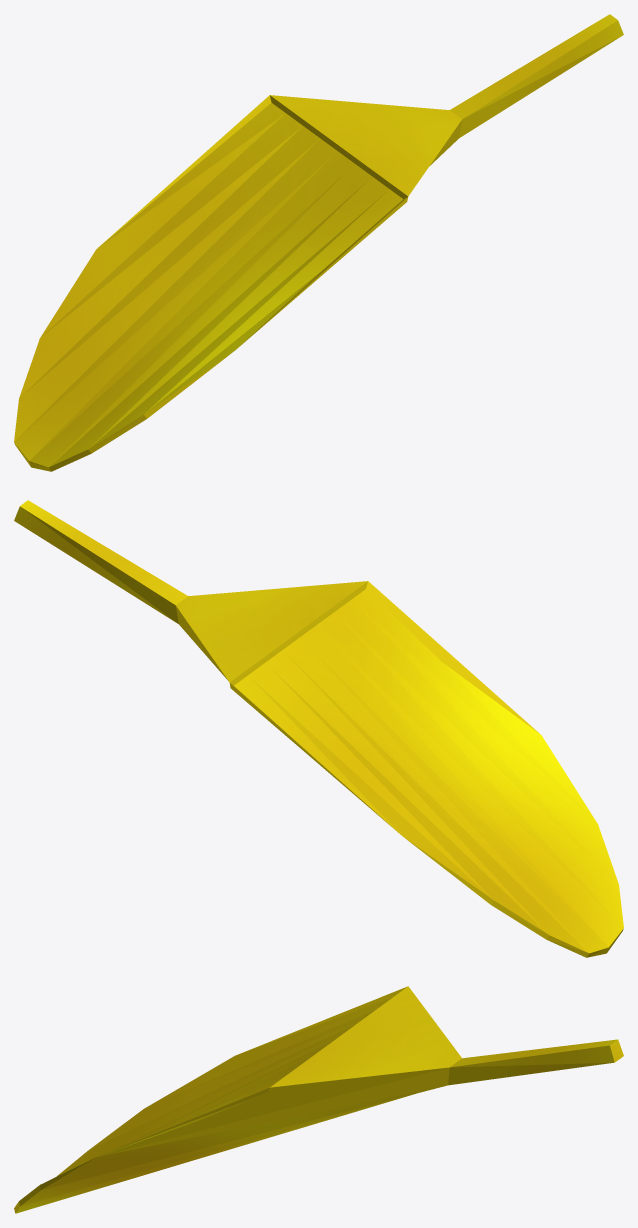
The model's file is shovel.fbx.
The picture shows the model from 3 angles, top to bottom: view 1: azimuth 30°, elevation 25°; view 2: azimuth 150°, elevation 25°; view 3: azimuth 330°, elevation 25°; orthographic projection.
Visible parts, largest first — view 1: pCube1; view 2: pCube1; view 3: pCube1.
Boxes of the visible parts, bbox=[...] form: pCube1: bbox=[14, 14, 623, 471]; pCube1: bbox=[14, 500, 623, 957]; pCube1: bbox=[14, 986, 623, 1213].
Bounding box in the file's own units: 2.46 × 1.23 × 1.
1 material, 1 textured.
